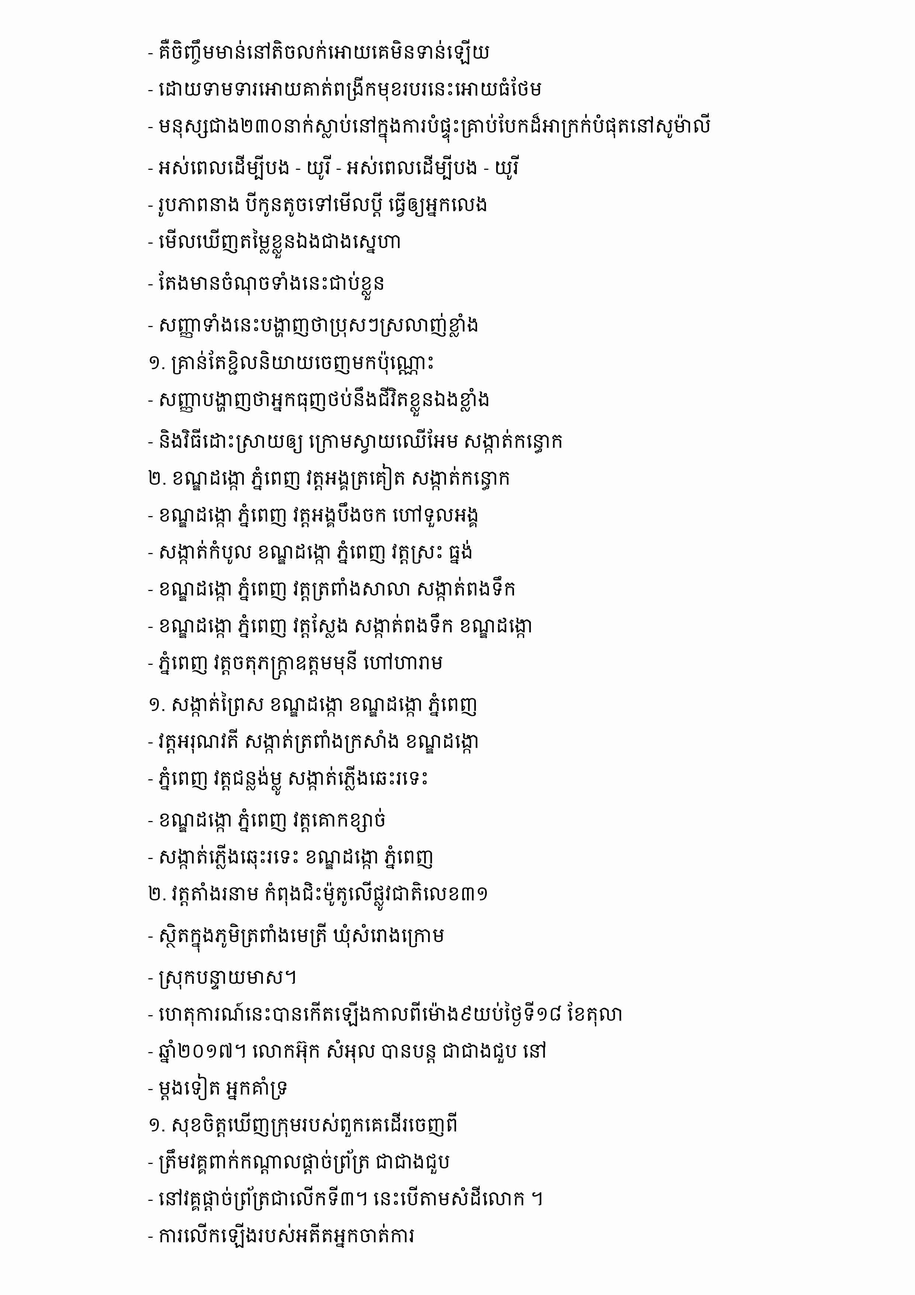text: (148, 113, 716, 143), (148, 1001, 628, 1027), (148, 428, 568, 454), (148, 387, 495, 417), (148, 881, 494, 911), (148, 76, 547, 102), (148, 463, 516, 491), (148, 1039, 552, 1064), (148, 1186, 548, 1211), (148, 613, 538, 638), (148, 155, 524, 180), (148, 576, 521, 601), (148, 923, 450, 953), (148, 39, 495, 65), (148, 650, 448, 680), (148, 765, 434, 796), (148, 502, 484, 528), (148, 728, 484, 754), (148, 691, 483, 717), (148, 192, 493, 217), (148, 313, 484, 338), (148, 540, 478, 564), (148, 1112, 463, 1137), (148, 229, 407, 259), (148, 1149, 455, 1174), (148, 350, 439, 375), (148, 844, 439, 869), (148, 271, 390, 300), (148, 1223, 420, 1248), (148, 808, 391, 832), (148, 1073, 293, 1100), (148, 971, 302, 990)
